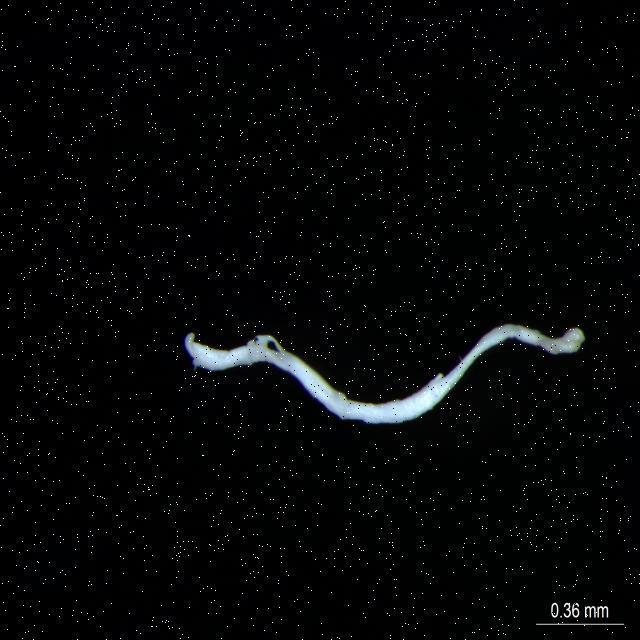Fibre: (179, 319, 596, 427)
